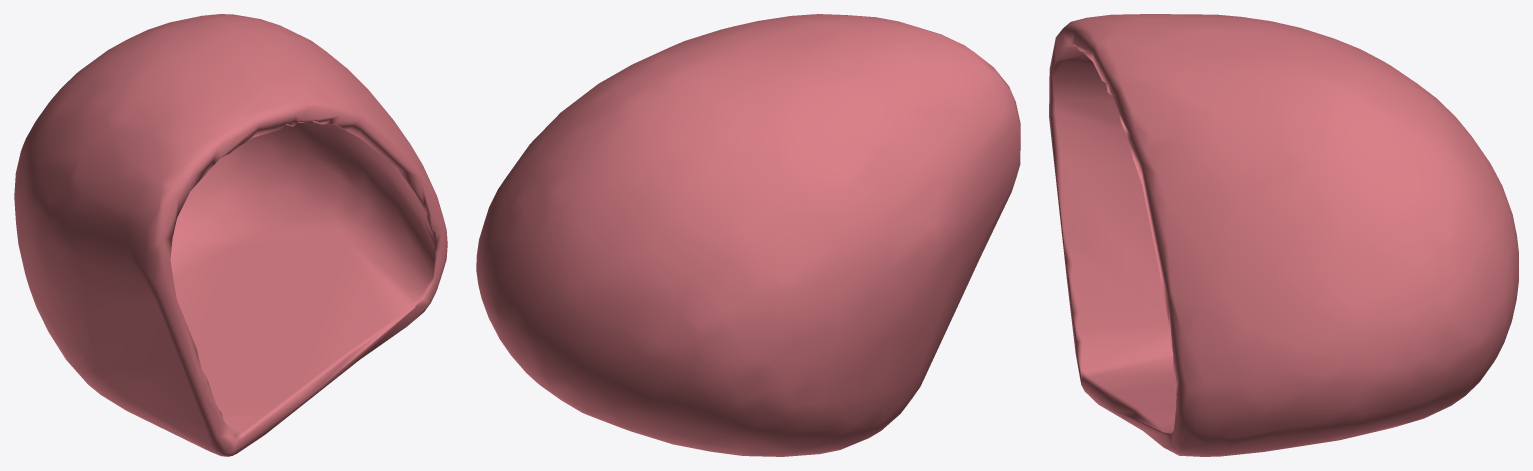
3 renders of one model, left to right at view 1: azimuth 30°, elevation 25°; view 2: azimuth 150°, elevation 25°; view 3: azimuth 270°, elevation 25°, orthographic. The views are drawn at different scales.
Visible parts, largest first — view 1: 肺动脉瓣左半月瓣; view 2: 肺动脉瓣左半月瓣; view 3: 肺动脉瓣左半月瓣.
Boxes of the visible parts, x1,y1,x2,y2 form: 肺动脉瓣左半月瓣: [14, 14, 447, 456]; 肺动脉瓣左半月瓣: [476, 14, 1020, 456]; 肺动脉瓣左半月瓣: [1049, 14, 1518, 456].
Size of the model in its own units: 0.0262 by 0.0224 by 0.0251.
